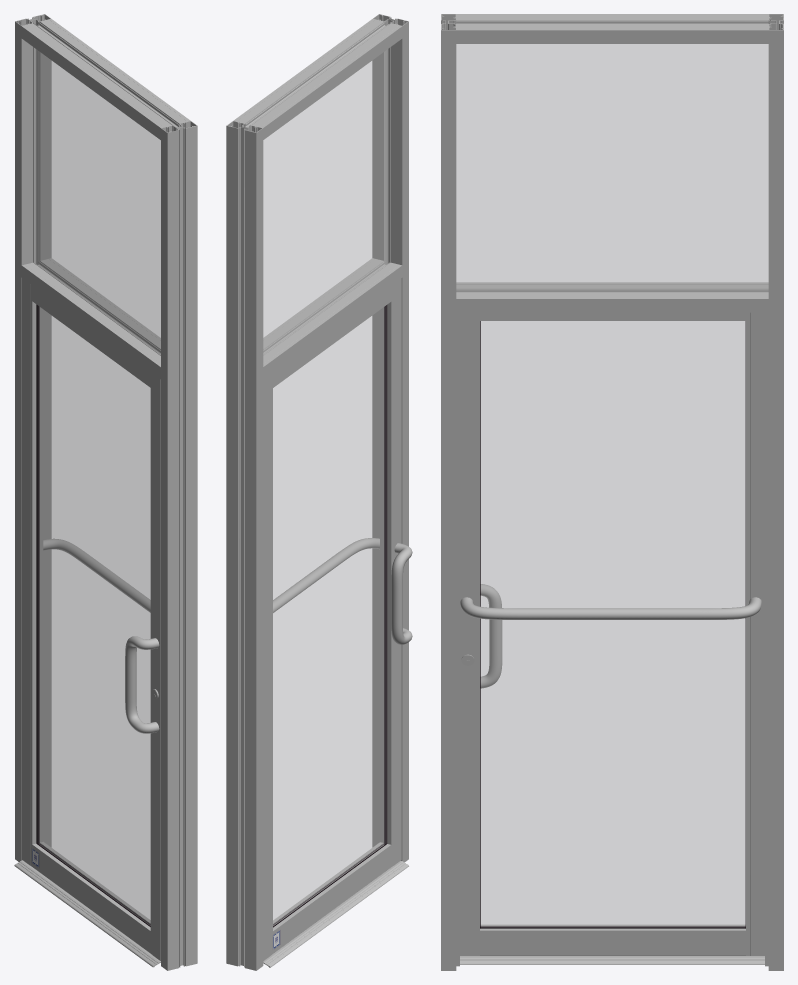
The model's file is Transomed_D200_Single_Animated_AL.glb.
3 views of the same model, side by side, from view 1: azimuth 30°, elevation 25°; view 2: azimuth 150°, elevation 25°; view 3: azimuth 270°, elevation 25° (orthographic). The views are drawn at different scales.
Parts seen in each view (by area): view 1: Cube.003, Cube.004, PROFILE_curve_.031, PROFILE_curve_.034, PROFILE_curve_.032, PROFILE_curve_.036, PROFILE_curve_.035, PROFILE_curve_.030, PROFILE_curve_.002, PROFILE_curve_.028, PROFILE_curve_.001, PROFILE_curve_.026 (+7 smaller); view 2: Cube.003, Cube.004, PROFILE_curve_.033, PROFILE_curve_.032, PROFILE_curve_.034, PROFILE_curve_.035, PROFILE_curve_.036, PROFILE_curve_.030, PROFILE_curve_.002, PROFILE_curve_.028, PROFILE_curve_.001, PROFILE_curve_.026 (+7 smaller); view 3: Cube.003, Cube.004, PROFILE_curve_.034, PROFILE_curve_.032, PROFILE_curve_.035, PROFILE_curve_.036, PROFILE_curve_.030, PROFILE_curve_.026, PROFILE_curve_.001, PROFILE_curve_.028, PROFILE_curve_.002, NurbsPath.002 (+5 smaller).
Boxes of the visible parts, left/top/right/bottom form: Cube.003: left=36, top=305, right=150, bottom=925; Cube.004: left=36, top=49, right=160, bottom=354; PROFILE_curve_.031: left=170, top=126, right=194, bottom=969; PROFILE_curve_.034: left=15, top=14, right=51, bottom=861; PROFILE_curve_.032: left=161, top=121, right=197, bottom=970; PROFILE_curve_.036: left=22, top=278, right=43, bottom=866; PROFILE_curve_.035: left=150, top=372, right=160, bottom=960; PROFILE_curve_.030: left=32, top=842, right=150, bottom=953; PROFILE_curve_.002: left=25, top=19, right=187, bottom=127; PROFILE_curve_.028: left=25, top=259, right=160, bottom=363; PROFILE_curve_.001: left=21, top=19, right=190, bottom=139; PROFILE_curve_.026: left=21, top=258, right=160, bottom=379; Cube.003: left=273, top=305, right=386, bottom=925; Cube.004: left=263, top=49, right=387, bottom=354; PROFILE_curve_.033: left=229, top=125, right=253, bottom=969; PROFILE_curve_.032: left=372, top=14, right=408, bottom=862; PROFILE_curve_.034: left=226, top=121, right=263, bottom=970; PROFILE_curve_.035: left=380, top=278, right=401, bottom=866; PROFILE_curve_.036: left=263, top=372, right=272, bottom=960; PROFILE_curve_.030: left=273, top=842, right=391, bottom=953; PROFILE_curve_.002: left=236, top=19, right=398, bottom=127; PROFILE_curve_.028: left=263, top=259, right=398, bottom=363; PROFILE_curve_.001: left=233, top=19, right=402, bottom=139; PROFILE_curve_.026: left=263, top=258, right=402, bottom=378; Cube.003: left=481, top=321, right=745, bottom=928; Cube.004: left=456, top=44, right=768, bottom=291; PROFILE_curve_.034: left=768, top=14, right=783, bottom=970; PROFILE_curve_.032: left=441, top=14, right=456, bottom=970; PROFILE_curve_.035: left=460, top=312, right=479, bottom=955; PROFILE_curve_.036: left=746, top=312, right=764, bottom=955; PROFILE_curve_.030: left=480, top=924, right=745, bottom=955; PROFILE_curve_.026: left=456, top=282, right=768, bottom=312; PROFILE_curve_.001: left=456, top=14, right=768, bottom=43; PROFILE_curve_.028: left=456, top=284, right=768, bottom=297; PROFILE_curve_.002: left=456, top=15, right=768, bottom=28; NurbsPath.002: left=460, top=597, right=761, bottom=619.
Size of the model in its own units: 0.2121 by 3.05 by 1.01.
5 materials, 1 textured.
